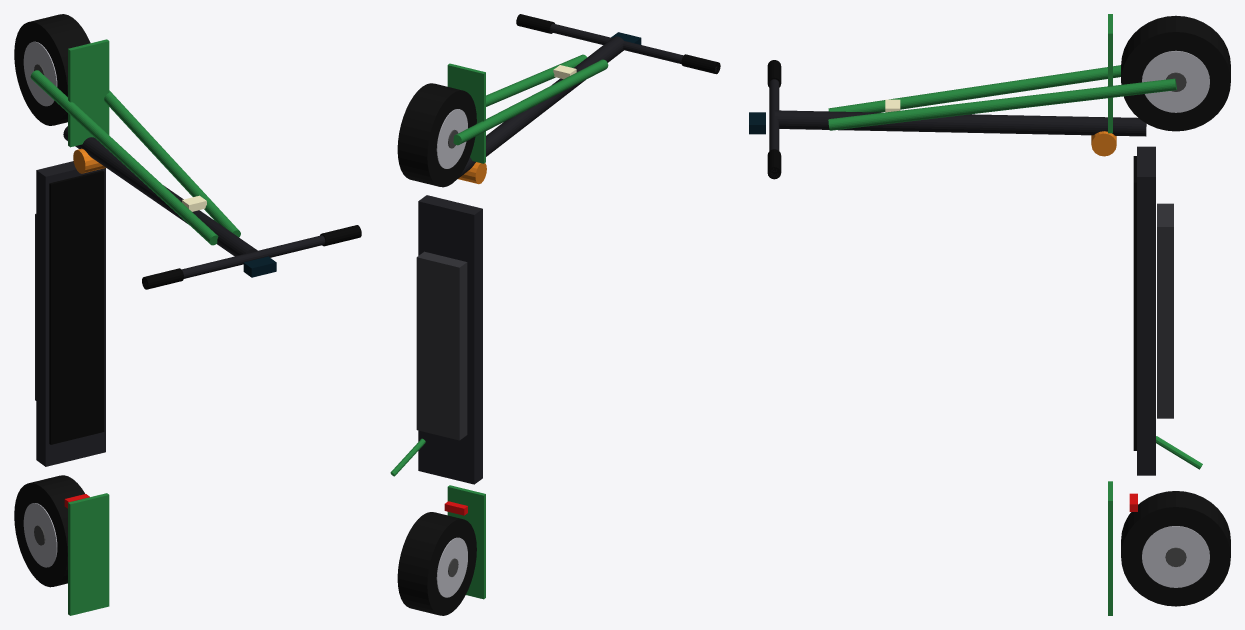
File: EcoKukirin.obj
3 views of the same model, side by side, from view 1: azimuth 30°, elevation 25°; view 2: azimuth 150°, elevation 25°; view 3: azimuth 270°, elevation 25° (orthographic). The views are drawn at different scales.
Parts seen in each view (by area): view 1: EcoKukirin; view 2: EcoKukirin; view 3: EcoKukirin.
Part boxes in pixels (<box>): EcoKukirin: <box>14,14,361,615</box>; EcoKukirin: <box>390,14,720,615</box>; EcoKukirin: <box>749,14,1230,615</box>.
Size of the model in its own units: 0.6 by 1.52 by 1.14.
